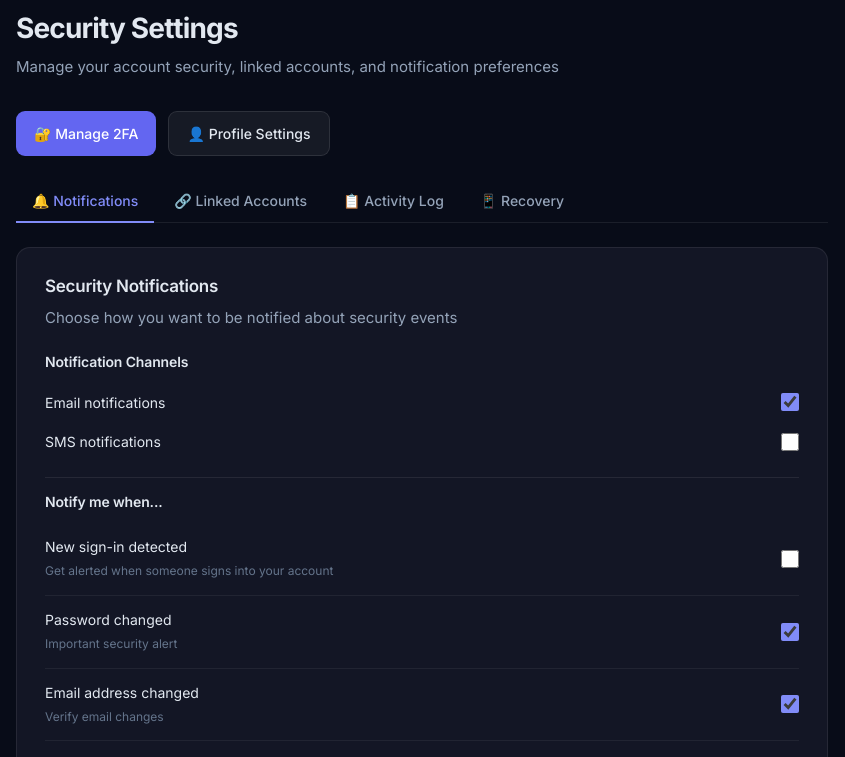
Test: SecuritySettings › identities tab › shows linked identities
The image size is (845, 757).
Click the button "🔗 Linked Accounts": (241, 202) [158,180,323,223]
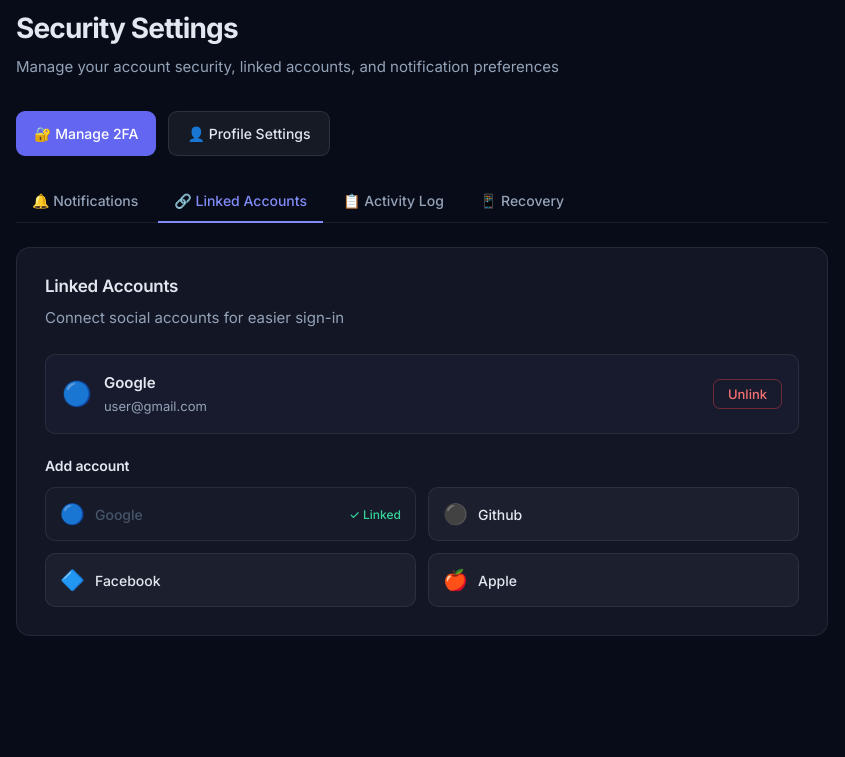
Check: the heading "Linked Accounts" is shown, box [45,276,178,296]
Check: the text "user@gmail.com" is shown, box [104,396,207,417]
